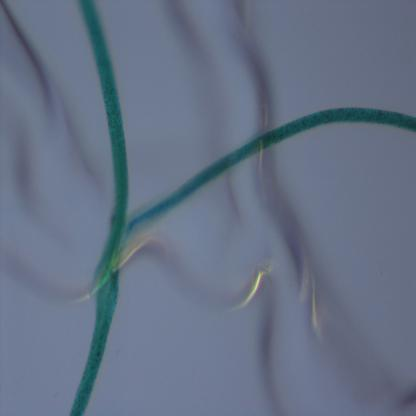Background material: (250, 152, 340, 312), (0, 0, 65, 129), (236, 258, 284, 412), (228, 14, 276, 131)
Microfibre: (120, 98, 416, 245), (69, 1, 136, 415)
